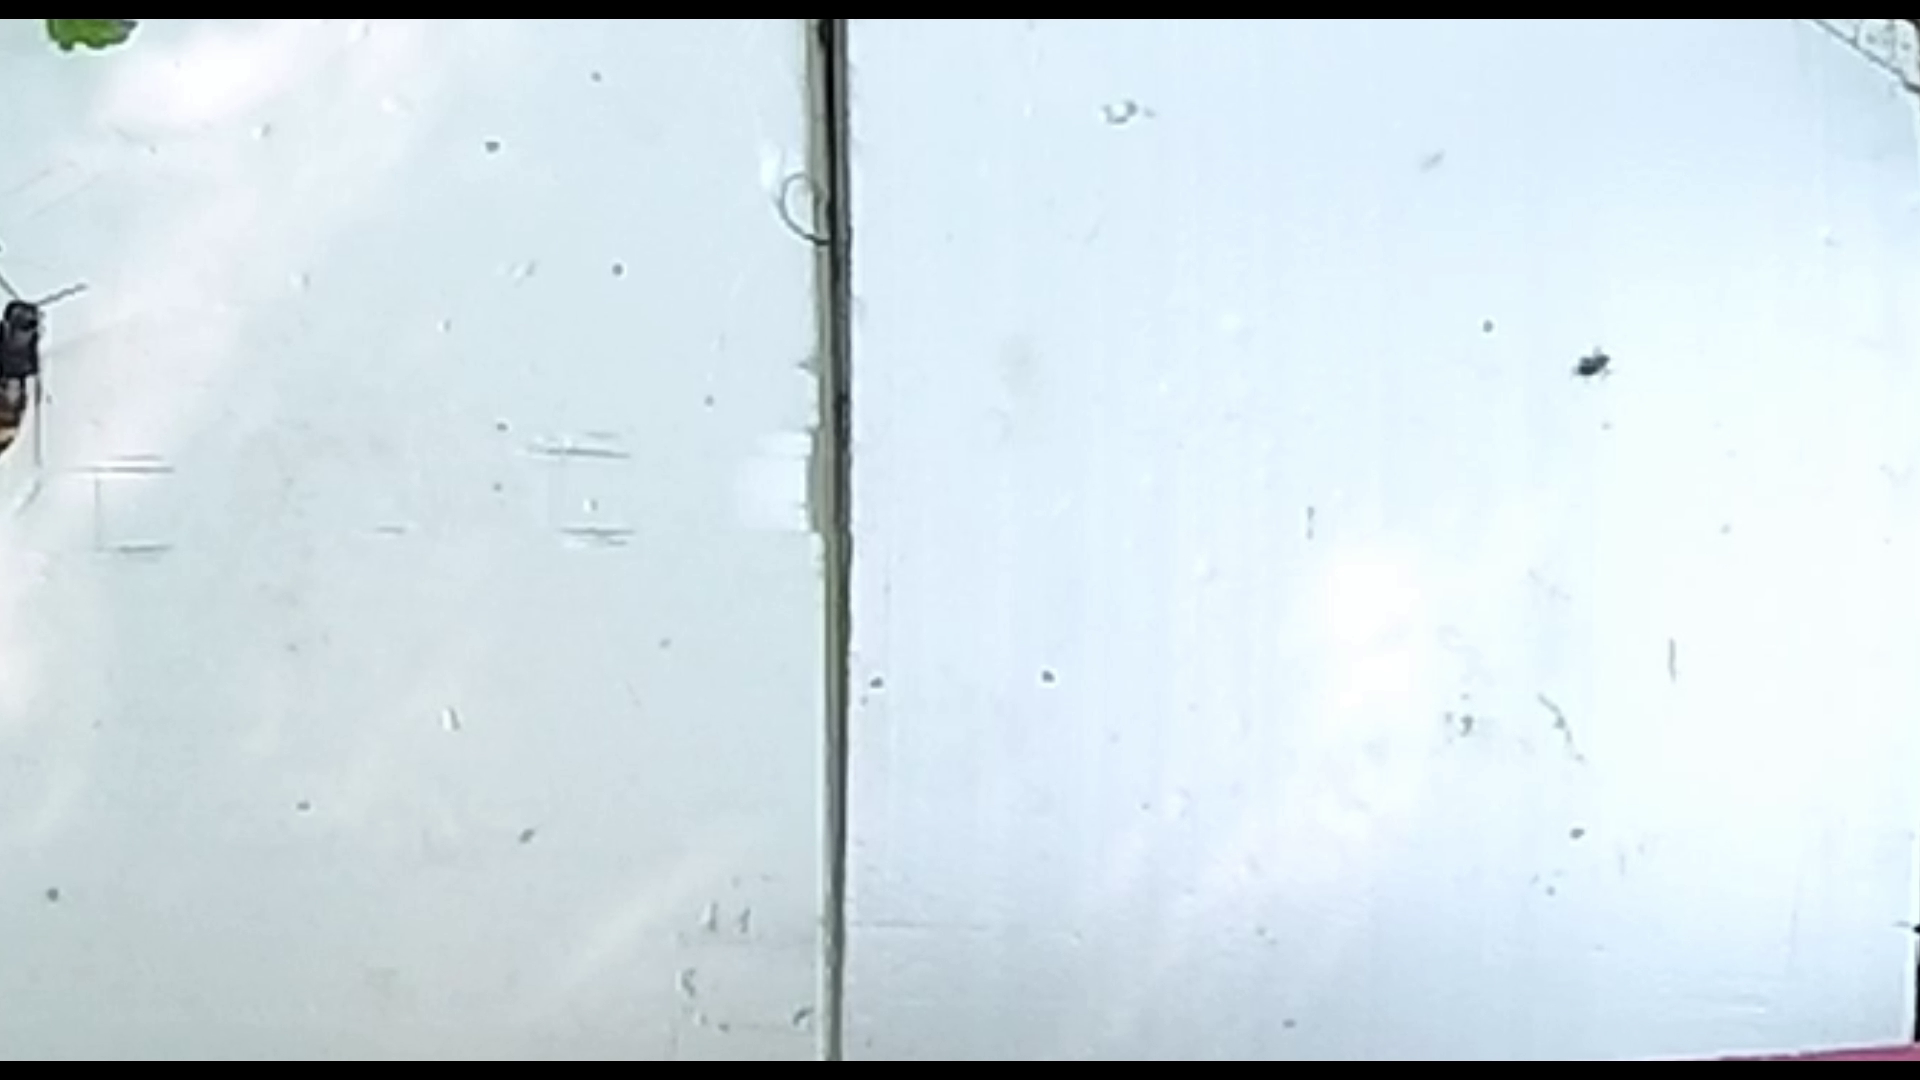Asian_hornets: (0, 261, 95, 483)
